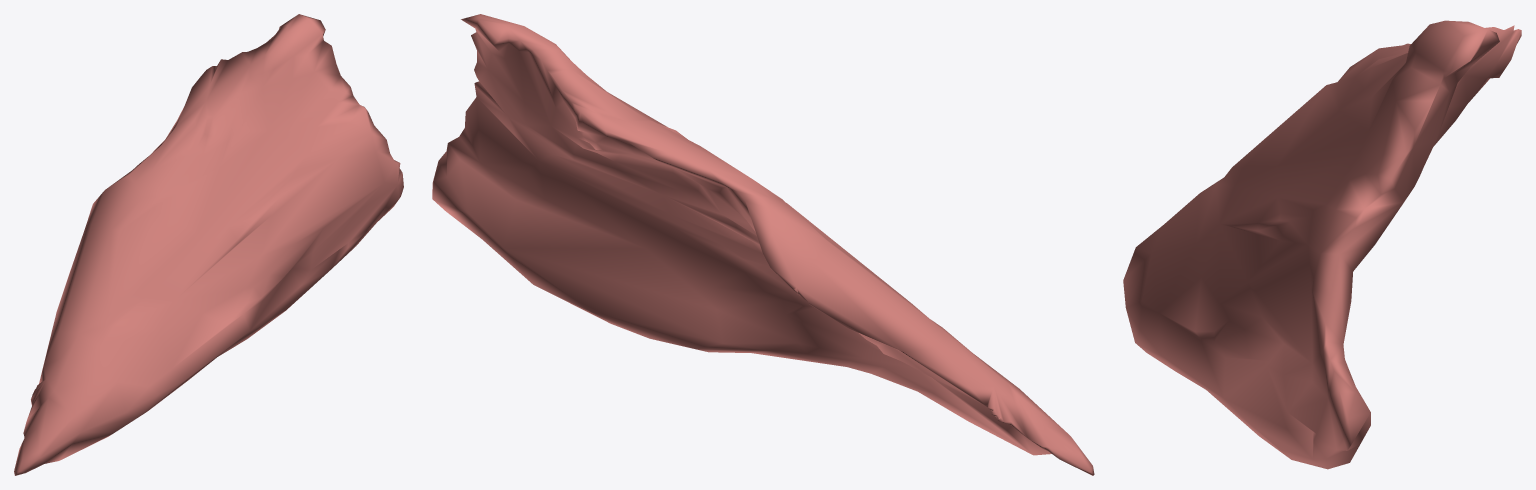
3 views of the same model, side by side, from view 1: azimuth 30°, elevation 25°; view 2: azimuth 150°, elevation 25°; view 3: azimuth 270°, elevation 25° (orthographic). The views are drawn at different scales.
Parts seen in each view (by area): view 1: ZA_391b9ebb61a67c76; view 2: ZA_391b9ebb61a67c76; view 3: ZA_391b9ebb61a67c76.
Part boxes in pixels (left/top/right/bottom): ZA_391b9ebb61a67c76: left=14, top=14, right=403, bottom=475; ZA_391b9ebb61a67c76: left=432, top=14, right=1094, bottom=475; ZA_391b9ebb61a67c76: left=1123, top=20, right=1521, bottom=469.
Size of the model in its own units: 0.0494 by 0.0333 by 0.0194.
